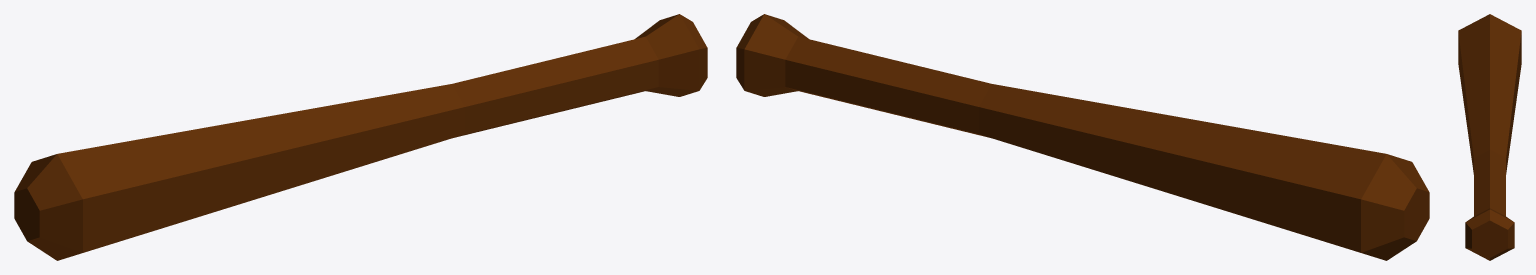
File: pesismaila.FBX
3 views of the same model, side by side, from view 1: azimuth 30°, elevation 25°; view 2: azimuth 150°, elevation 25°; view 3: azimuth 270°, elevation 25° (orthographic). The views are drawn at different scales.
Parts seen in each view (by area): view 1: pesapallomaila; view 2: pesapallomaila; view 3: pesapallomaila.
Part boxes in pixels (x1,y1,x2,y2): pesapallomaila: (14,14,707,260); pesapallomaila: (736,14,1429,260); pesapallomaila: (1458,14,1521,260).
Bounding box in the file's own units: 78.21 × 12.02 × 10.41.
